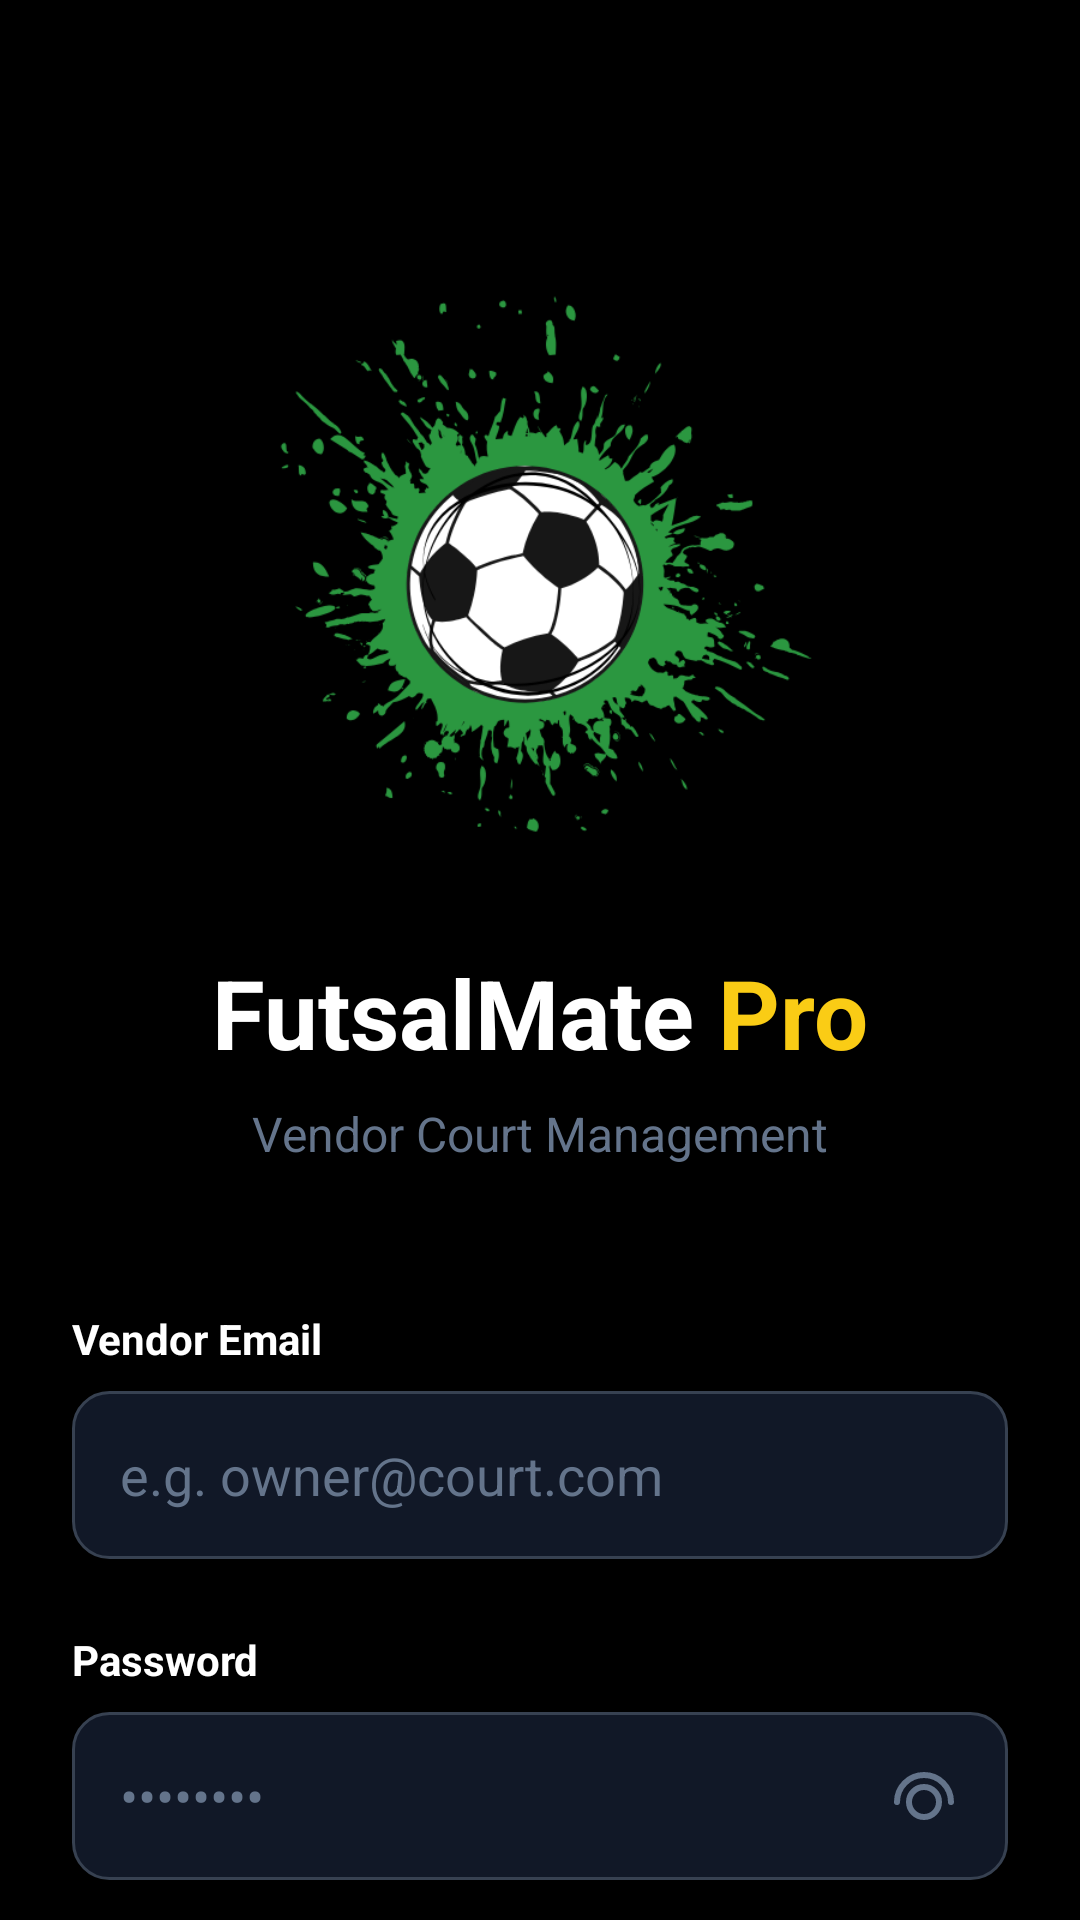

Icons on this 1080×1920 Android screen, each with the point to tap as point (x, y):
visibility: point (924, 1796)
